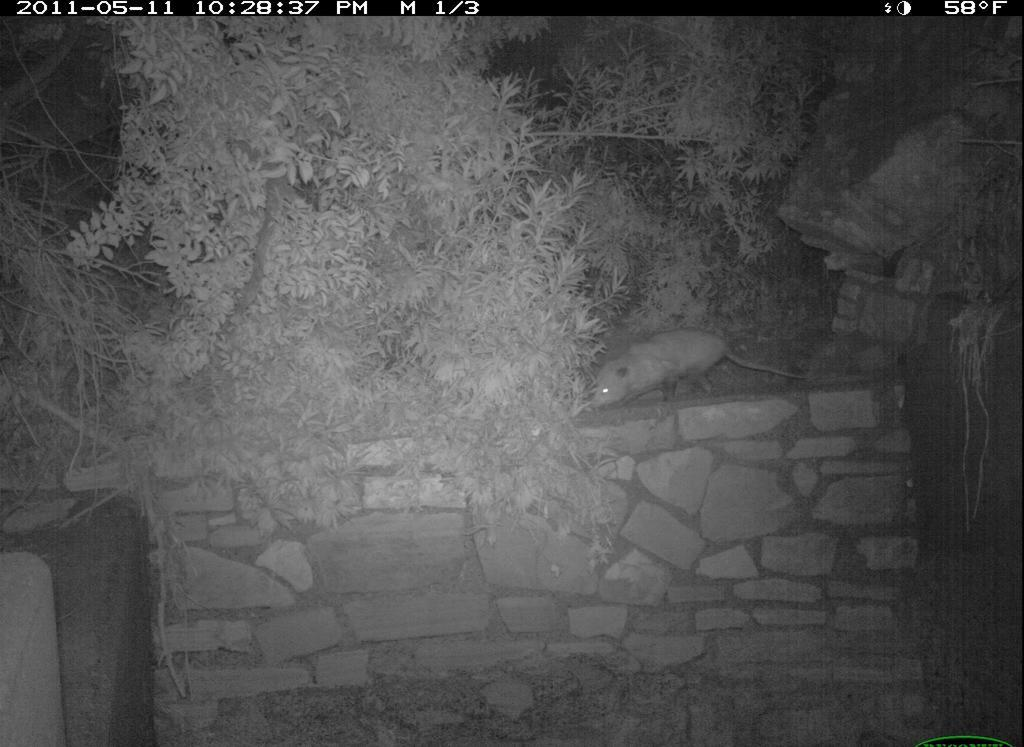opossum: (585, 324, 815, 422)
